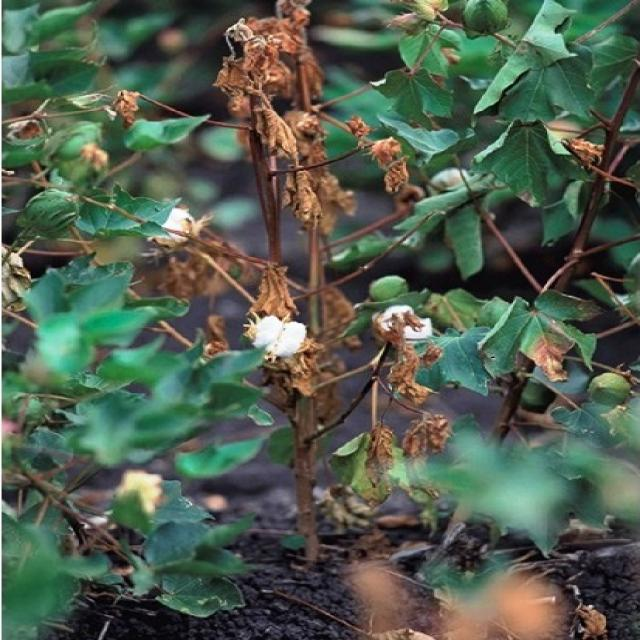Fusarium Wilt: (40, 23, 515, 619)
